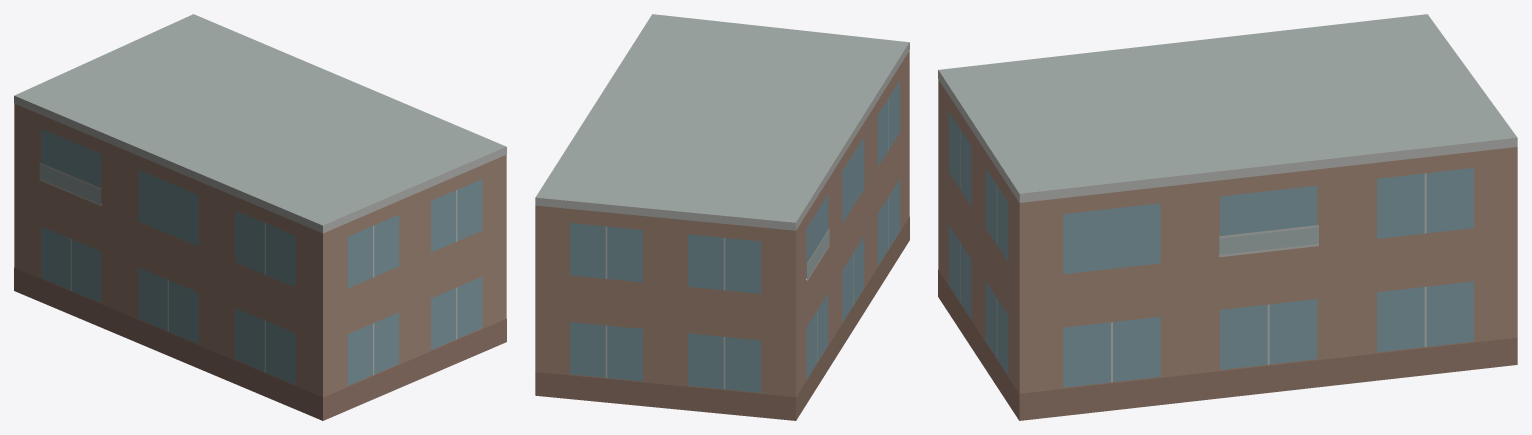
File: survey-upis-32884068.glb
3 renders of one model, left to right at view 1: azimuth 30°, elevation 25°; view 2: azimuth 150°, elevation 25°; view 3: azimuth 270°, elevation 25°, orthographic. The views are drawn at different scales.
Parts seen in each view (by area): view 1: survey-upis-32884068.tmp; view 2: survey-upis-32884068.tmp; view 3: survey-upis-32884068.tmp.
Boxes of the visible parts, x1,y1,x2,y2 form: survey-upis-32884068.tmp: (14, 14, 506, 420); survey-upis-32884068.tmp: (535, 14, 909, 420); survey-upis-32884068.tmp: (938, 14, 1517, 420).
Bounding box in the file's own units: 10.38 × 6.1 × 14.13.
